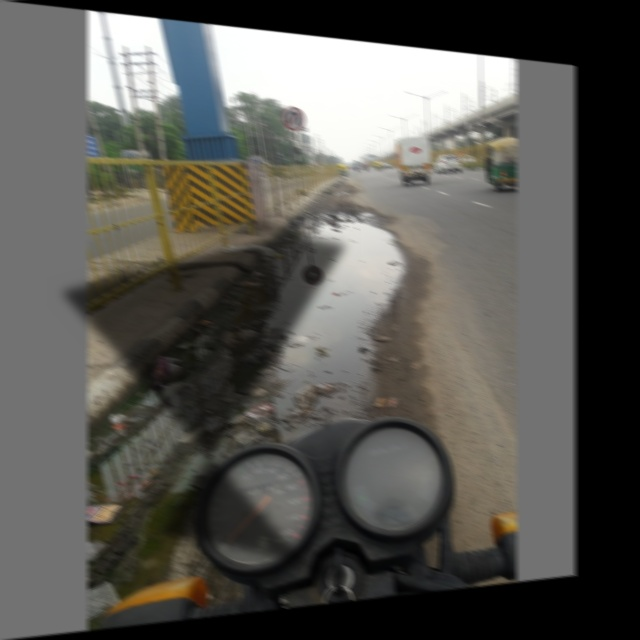U_Turn_Prohibited: (281, 103, 306, 134)
